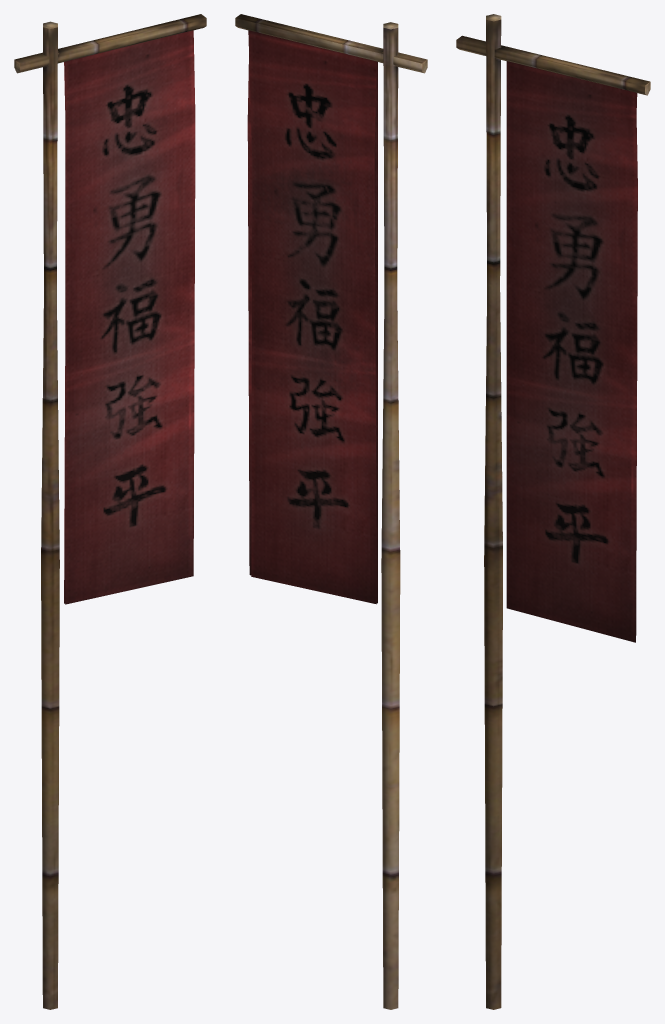
File: banner.FBX
The picture shows the model from 3 angles, left to right: view 1: azimuth 30°, elevation 25°; view 2: azimuth 150°, elevation 25°; view 3: azimuth 330°, elevation 25°; orthographic projection.
Visible parts, largest first — view 1: banner; view 2: banner; view 3: banner.
Part boxes in pixels (x1,y1,x2,y2): banner: [14, 14, 206, 1009]; banner: [235, 14, 427, 1009]; banner: [456, 14, 650, 1009].
Size of the model in its own units: 22.4 by 112 by 1.95.
